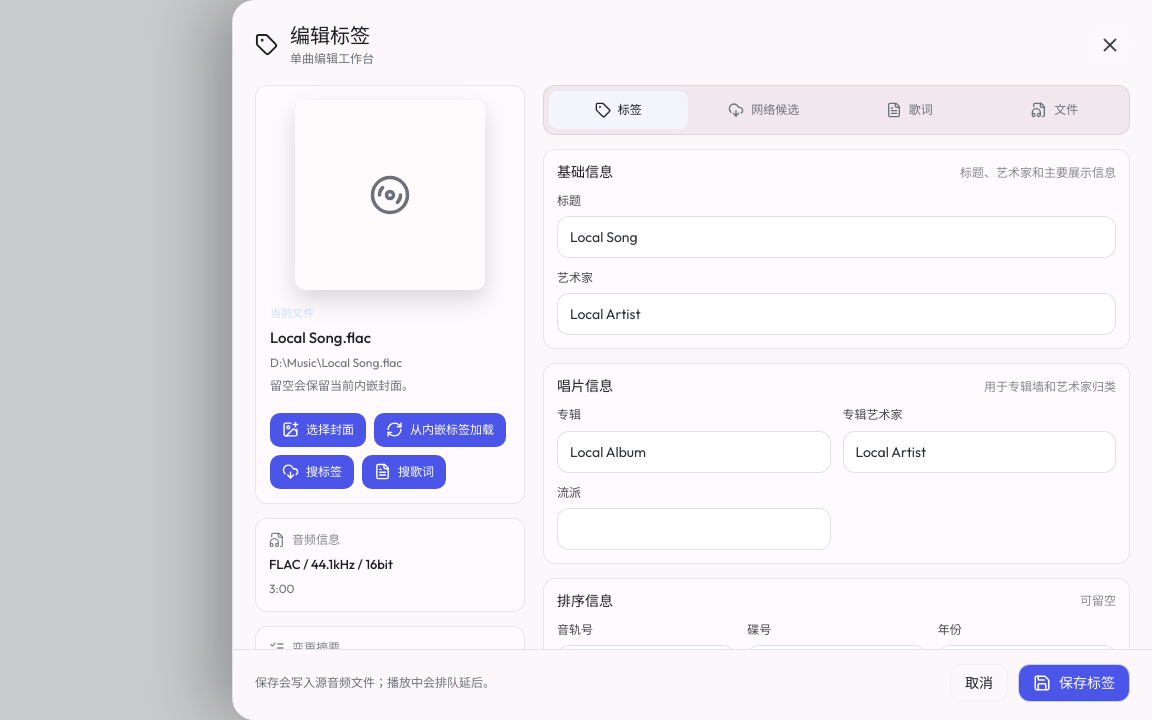
Test: TrackTagEditorDrawer network tags › does not let a late initial lyrics read overwrite a saved edit
The width and height of the screenshot is (1152, 720).
Click the tab "歌词" at (909, 110), box [840,91,978,129]
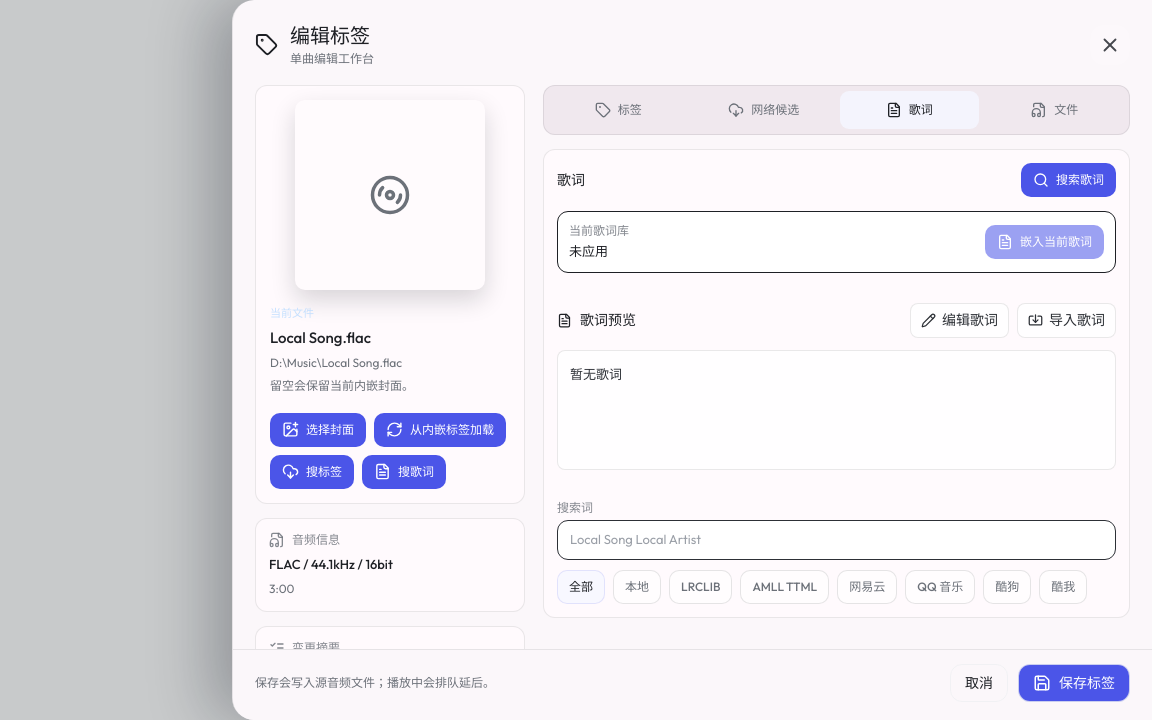
Click the button "编辑歌词" at (960, 320), box [910,303,1009,338]
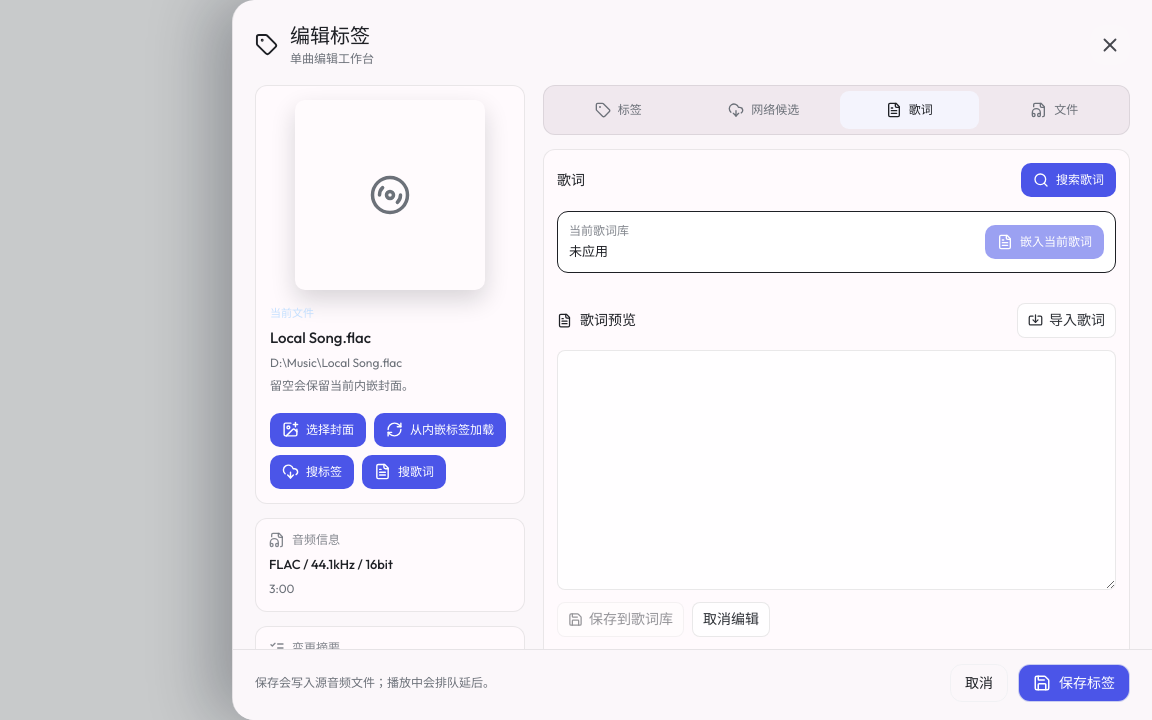
Type "[00:02.00]Saved edit" into the text box named "歌词文本" at (836, 470), box [557,350,1116,590]
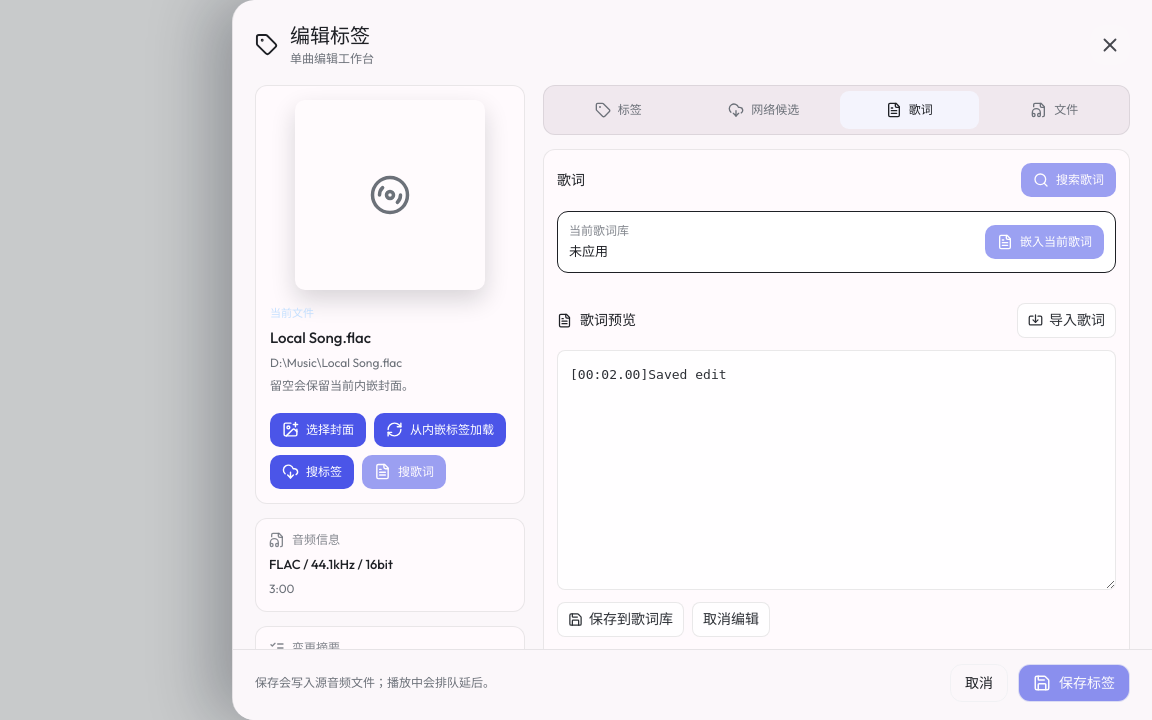
Click the button "保存到歌词库" at (620, 619), box [557,602,684,637]
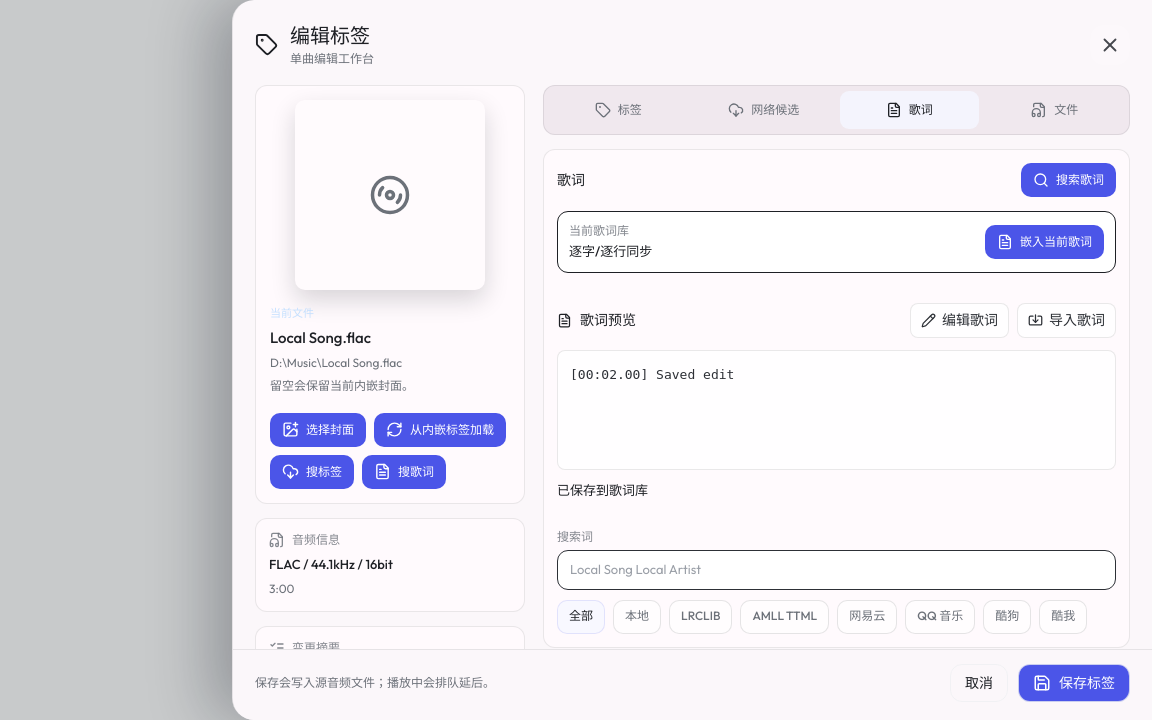
Result: the text "[00:02.00] Saved edit" is shown at [557,350,1116,470]
